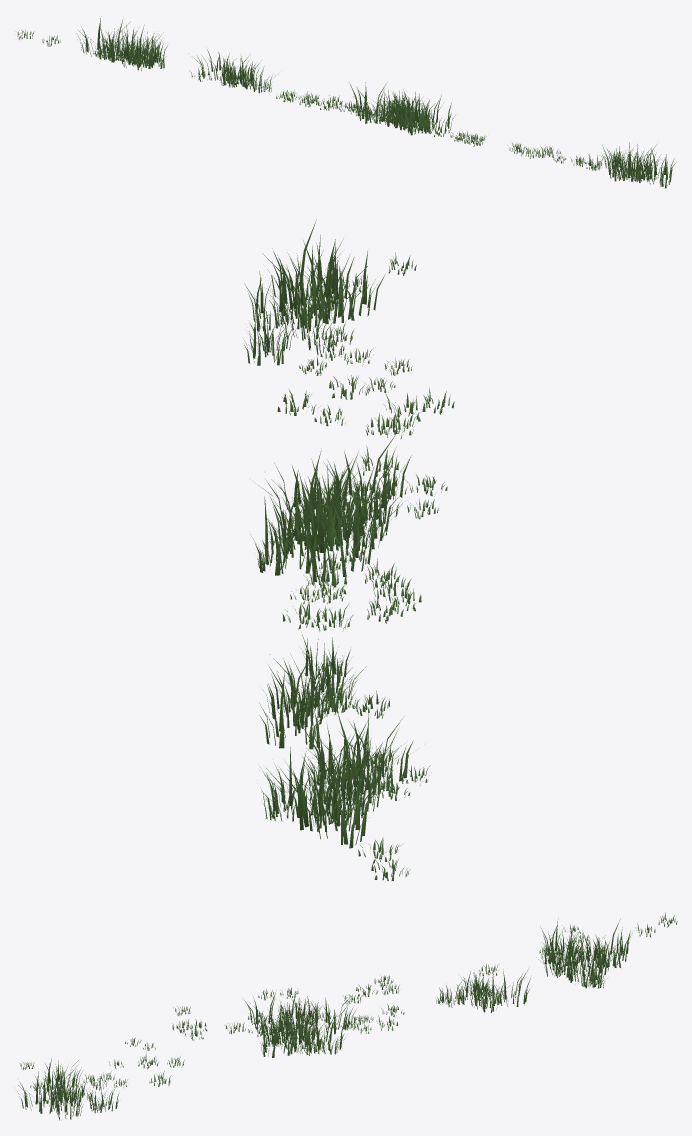
File: P2N_shore_grass_-2_-3.glb
The picture shows the model from 3 angles, top to bottom: view 1: azimuth 30°, elevation 25°; view 2: azimuth 150°, elevation 25°; view 3: azimuth 270°, elevation 25°; orthographic projection. The views are drawn at different scales.
Visible parts, largest first — view 1: P2N_shore_grass_-2_-3; view 2: P2N_shore_grass_-2_-3; view 3: P2N_shore_grass_-2_-3.
Boxes of the visible parts, x1,y1,x2,y2 form: P2N_shore_grass_-2_-3: (16, 16, 676, 188); P2N_shore_grass_-2_-3: (244, 219, 454, 881); P2N_shore_grass_-2_-3: (17, 912, 677, 1120).
Bounding box in the file's own units: 20.14 × 2.31 × 29.7.
